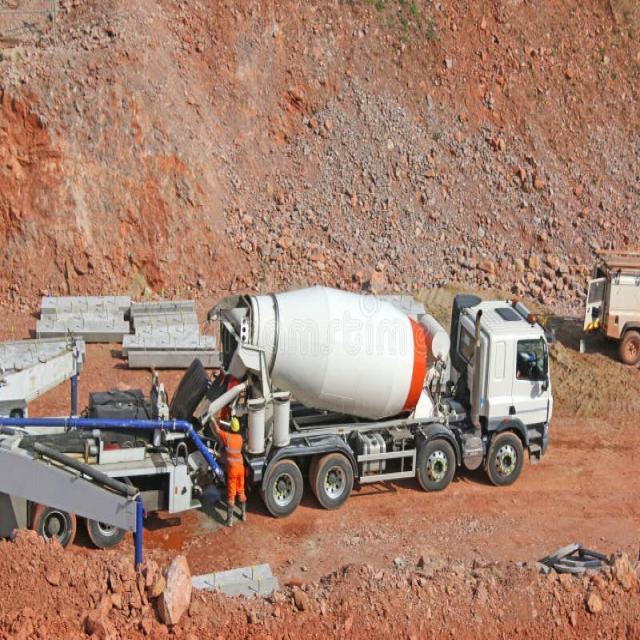truck: (170, 287, 552, 517), (0, 418, 224, 566)
